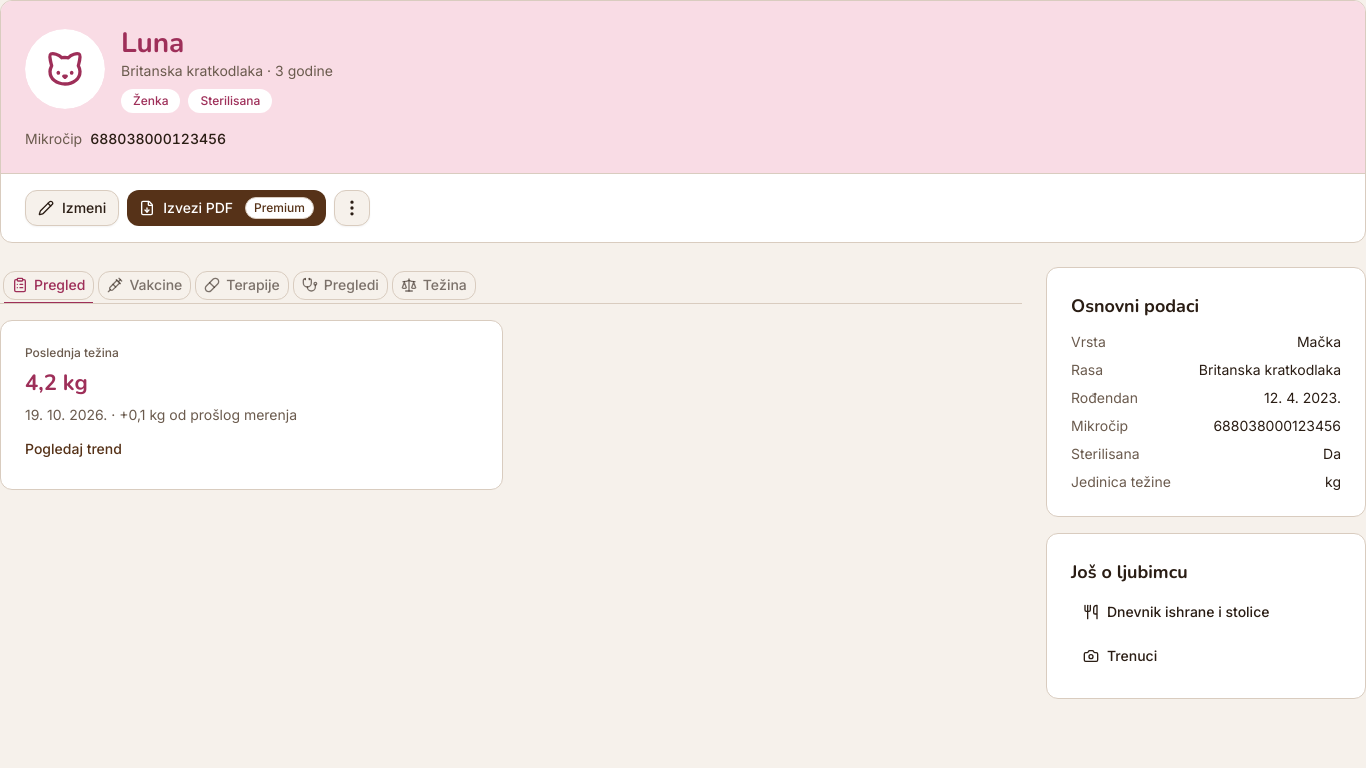
Scenario: FR-04 — weight history as a trend › renders every entry as a bar in measured_on order, oldest first
Click the tab "Težina" at (434, 285), box [392,270,476,300]
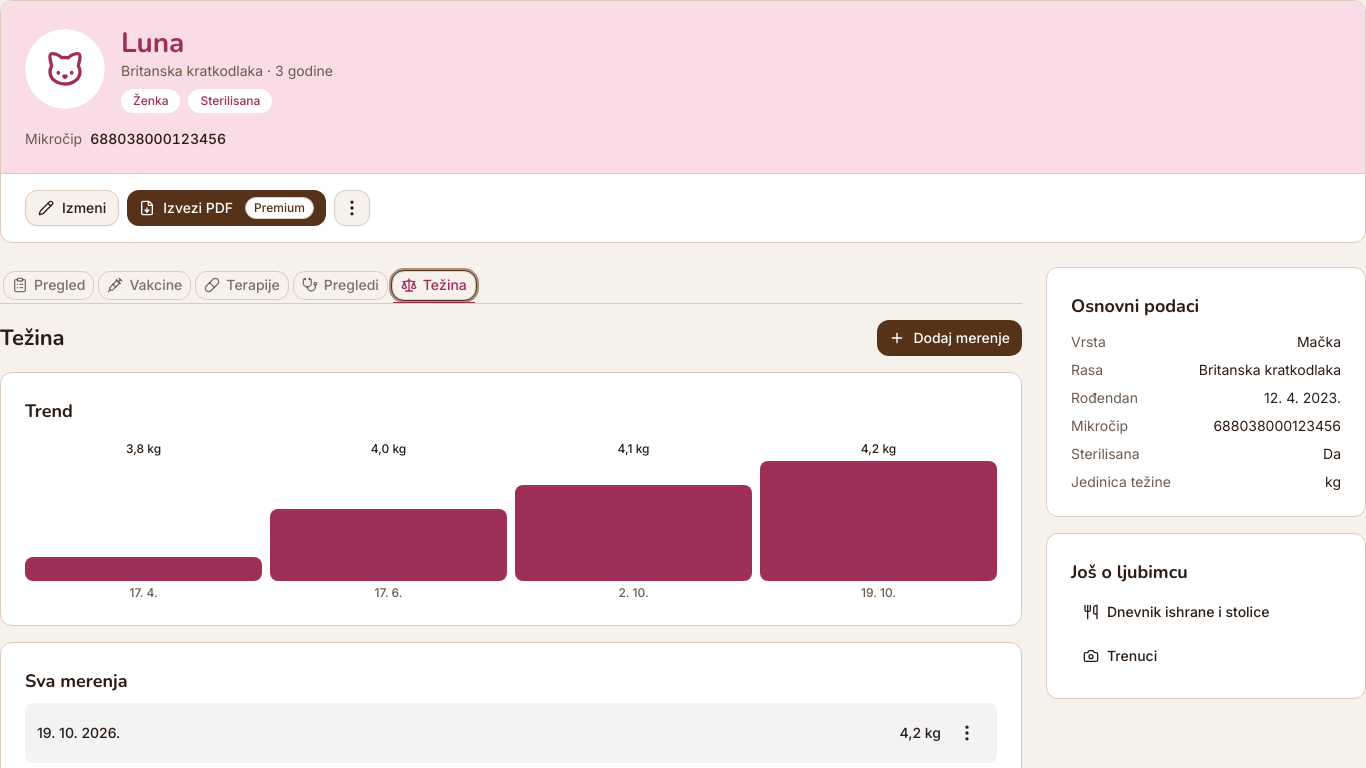
Now the number of elements with test id "weight-bar" is 4, box [25,441,262,601]; [270,441,507,601]; [515,441,752,601]; [760,441,997,601]
Now the elements with test id "weight-bar" read "3,8 kg17. 4.", "4,0 kg17. 6.", "4,1 kg2. 10.", "4,2 kg19. 10.", in this order, box [25,441,262,601]; [270,441,507,601]; [515,441,752,601]; [760,441,997,601]
Now the picture named "Trend težine za Luna: od 3,8 kg (17. 4. 2026.) do 4,2 kg (19. 10. 2026.)" is shown, box [25,441,997,601]
